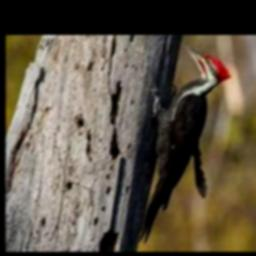Woodpecker: (138, 43, 231, 243)
